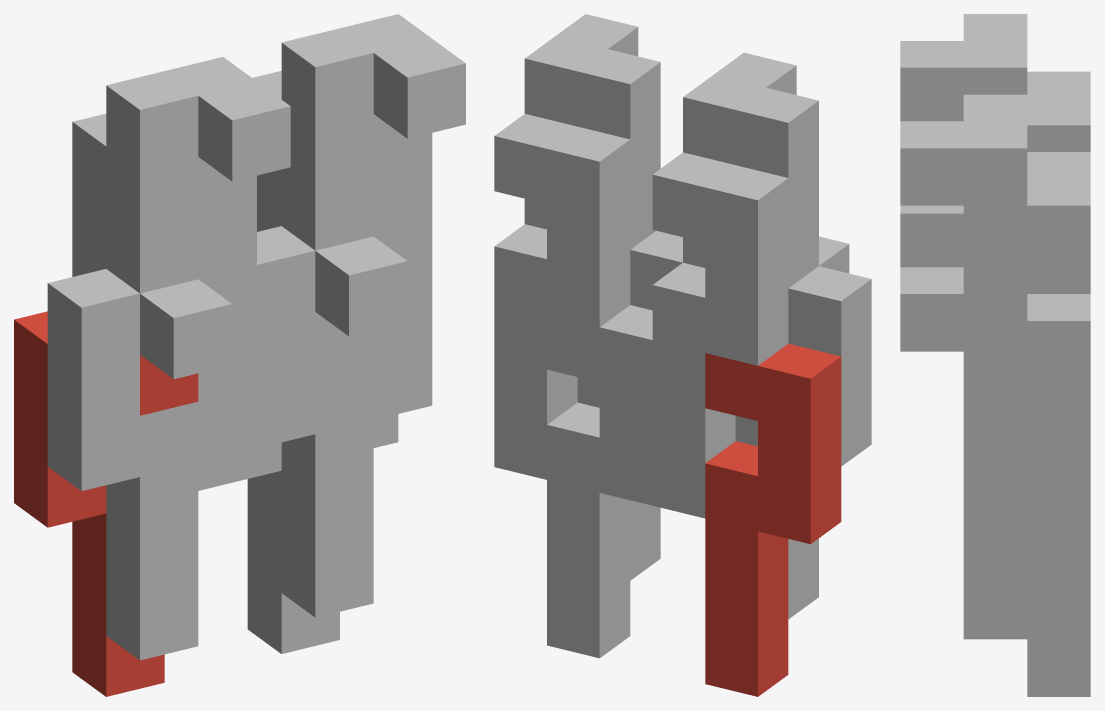
The model's file is tiling.obj.
The picture shows the model from 3 angles, left to right: view 1: azimuth 30°, elevation 25°; view 2: azimuth 150°, elevation 25°; view 3: azimuth 270°, elevation 25°; orthographic projection. The views are drawn at different scales.
Parts seen in each view (by area): view 1: copy_1_domain_2, copy_1_domain_4, copy_1_domain_8, copy_1_domain_6, copy_1_domain_1, copy_1_domain_5, copy_1_domain_3, copy_1_domain_7; view 2: copy_1_domain_1, copy_1_domain_3, copy_1_domain_7, copy_1_domain_5, copy_1_domain_4, copy_1_domain_8, copy_1_domain_2, copy_1_domain_6; view 3: copy_1_domain_7, copy_1_domain_8, copy_1_domain_6, copy_1_domain_4, copy_1_domain_5, copy_1_domain_3, copy_1_domain_2.
Part boxes in pixels (x1=…): copy_1_domain_2: x1=47, y1=269, x2=232, y2=660; copy_1_domain_4: x1=106, y1=57, x2=290, y2=462; copy_1_domain_8: x1=281, y1=14, x2=465, y2=419; copy_1_domain_6: x1=257, y1=226, x2=407, y2=617; copy_1_domain_1: x1=14, y1=311, x2=198, y2=696; copy_1_domain_5: x1=223, y1=312, x2=373, y2=653; copy_1_domain_3: x1=72, y1=113, x2=256, y2=490; copy_1_domain_7: x1=252, y1=71, x2=432, y2=447; copy_1_domain_1: x1=705, y1=343, x2=841, y2=696; copy_1_domain_3: x1=652, y1=152, x2=788, y2=518; copy_1_domain_7: x1=494, y1=114, x2=630, y2=479; copy_1_domain_5: x1=547, y1=305, x2=652, y2=658; copy_1_domain_4: x1=683, y1=52, x2=818, y2=288; copy_1_domain_8: x1=524, y1=14, x2=660, y2=249; copy_1_domain_2: x1=735, y1=236, x2=871, y2=619; copy_1_domain_6: x1=577, y1=231, x2=682, y2=580; copy_1_domain_7: x1=963, y1=152, x2=1090, y2=550; copy_1_domain_8: x1=900, y1=94, x2=1027, y2=493; copy_1_domain_6: x1=900, y1=267, x2=1027, y2=639; copy_1_domain_4: x1=900, y1=14, x2=1027, y2=121; copy_1_domain_5: x1=1027, y1=551, x2=1090, y2=696; copy_1_domain_3: x1=1027, y1=71, x2=1090, y2=151; copy_1_domain_2: x1=900, y1=205, x2=963, y2=267.
Size of the model in its own units: 6 by 10 by 3.
